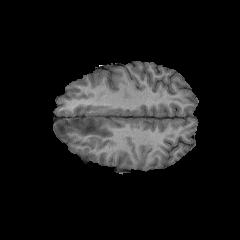glioma: (54, 118, 114, 140)
